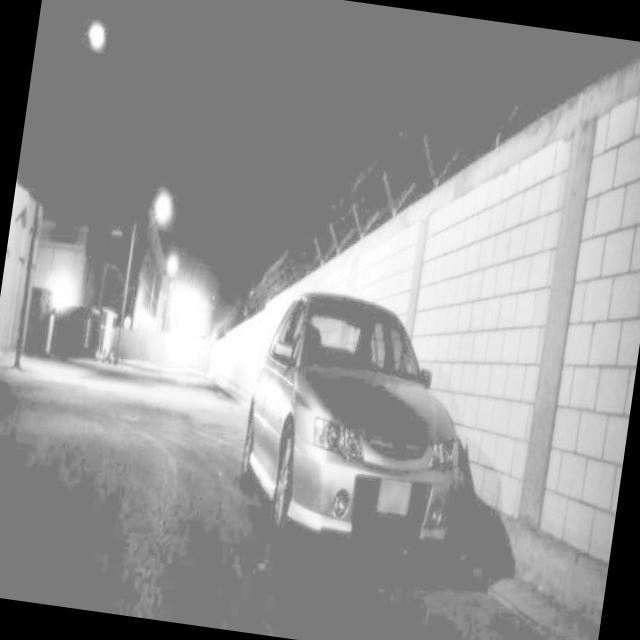Car: (224, 282, 498, 584)
